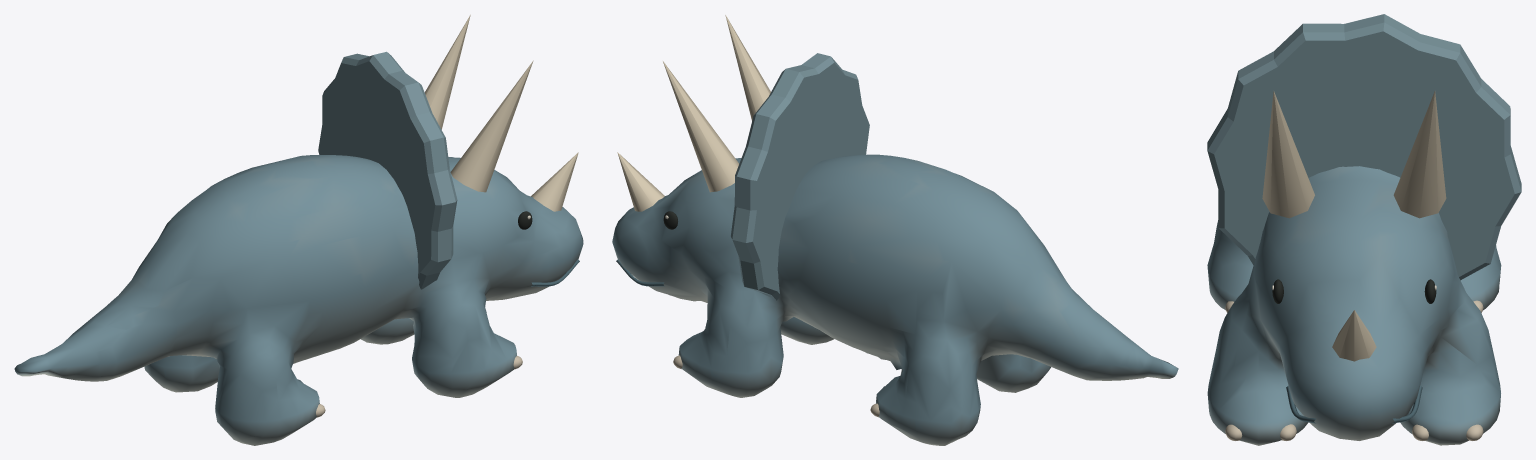
File: triceratops.glb
3 renders of one model, left to right at view 1: azimuth 30°, elevation 25°; view 2: azimuth 150°, elevation 25°; view 3: azimuth 270°, elevation 25°, orthographic. The views are drawn at different scales.
Visible parts, largest first — view 1: clay-toy; view 2: clay-toy; view 3: clay-toy.
Boxes of the visible parts, <box> form: clay-toy: <box>14,14,583,445</box>; clay-toy: <box>612,15,1178,445</box>; clay-toy: <box>1207,14,1521,445</box>.
Bounding box in the file's own units: 3.3 × 1.76 × 1.25.
